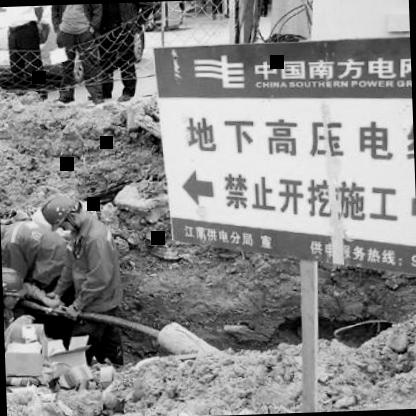helmet: (36, 190, 90, 234), (2, 264, 24, 315)
